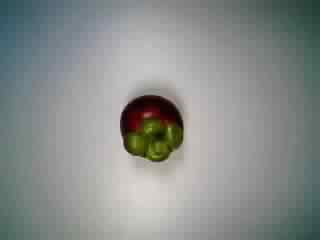mangosteen: (112, 89, 189, 164)
